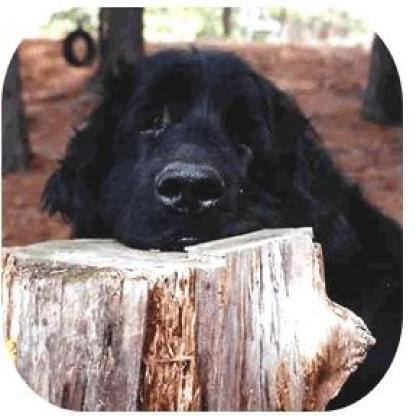Newfoundland: (29, 38, 401, 409)
